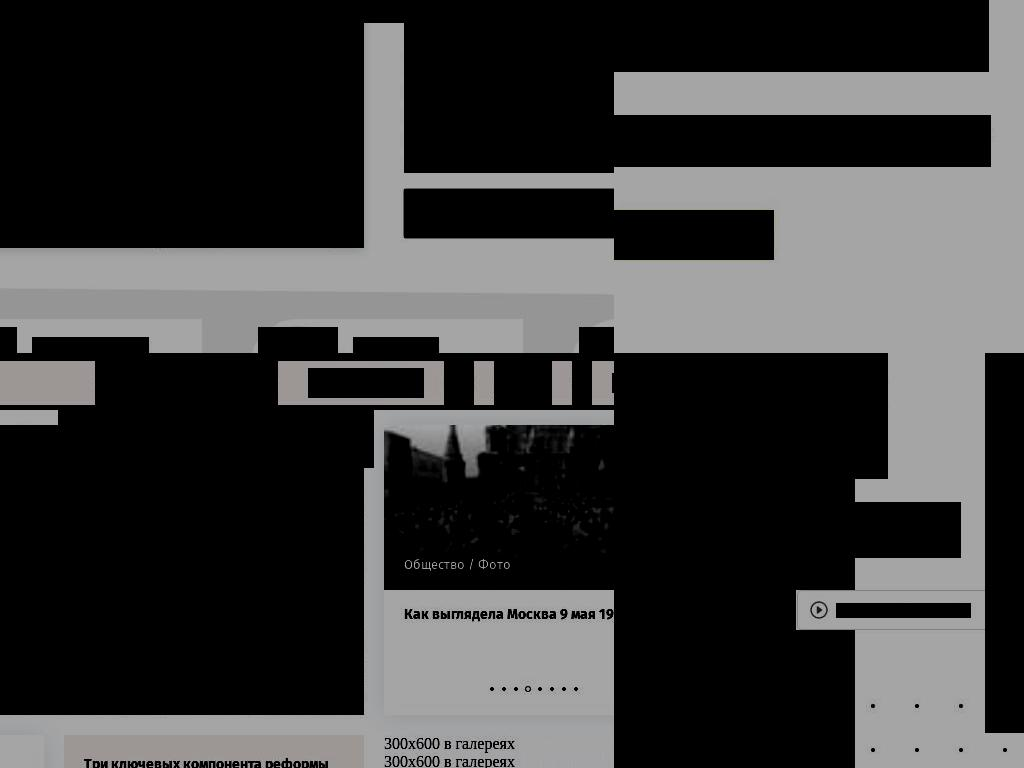button: (0, 425, 364, 715), (404, 189, 614, 238), (64, 735, 364, 768), (614, 210, 774, 260), (796, 590, 989, 630), (614, 590, 789, 630), (308, 368, 424, 398), (494, 361, 552, 405), (444, 361, 474, 405), (572, 361, 592, 405), (399, 353, 556, 358), (265, 353, 369, 358)
heading: (614, 353, 888, 479), (614, 0, 989, 72), (614, 502, 961, 558), (404, 0, 614, 53), (84, 756, 329, 768)
image: (0, 425, 364, 715), (0, 3, 364, 248), (374, 419, 614, 585), (0, 0, 614, 23), (95, 361, 278, 405), (0, 405, 614, 410), (258, 327, 338, 353), (444, 368, 474, 398), (808, 599, 829, 620), (494, 373, 514, 393), (572, 373, 592, 393), (324, 679, 344, 699), (404, 679, 424, 699), (261, 353, 279, 357), (490, 687, 495, 692), (502, 687, 507, 692), (526, 687, 531, 692), (538, 687, 543, 692), (550, 687, 555, 692), (562, 687, 567, 692), (574, 687, 579, 692)
link: (124, 451, 249, 468), (32, 337, 149, 353), (511, 585, 614, 602), (0, 574, 89, 592), (353, 337, 439, 353), (121, 574, 175, 592), (281, 451, 335, 468), (429, 564, 483, 581), (404, 557, 464, 572), (146, 353, 235, 358), (40, 353, 116, 358)
text: (614, 353, 855, 768), (404, 53, 614, 173), (614, 115, 991, 167), (58, 409, 374, 468), (384, 590, 614, 665), (0, 532, 214, 592), (426, 522, 614, 581), (543, 189, 614, 238), (627, 221, 750, 248), (836, 603, 971, 618), (319, 376, 408, 390), (415, 353, 556, 358), (89, 574, 121, 592), (249, 451, 281, 468), (477, 557, 510, 572), (282, 353, 369, 358), (519, 377, 552, 389), (464, 557, 477, 572), (121, 451, 124, 468), (508, 585, 511, 602)
